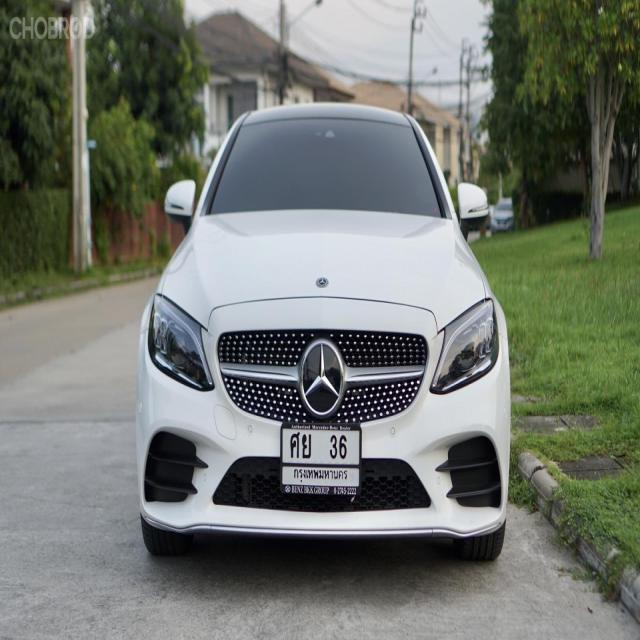license_plate: (277, 420, 365, 502)
